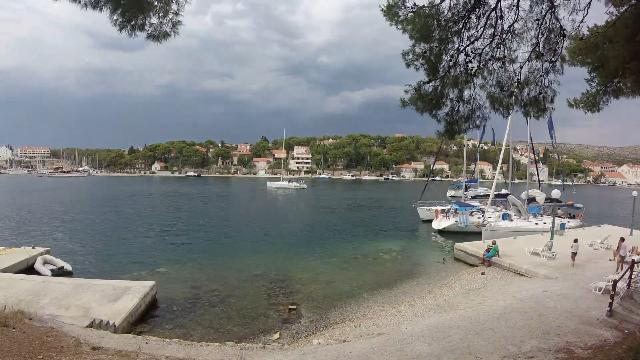Freighter: (44, 164, 92, 178)
Sailboat: (266, 176, 312, 192)
